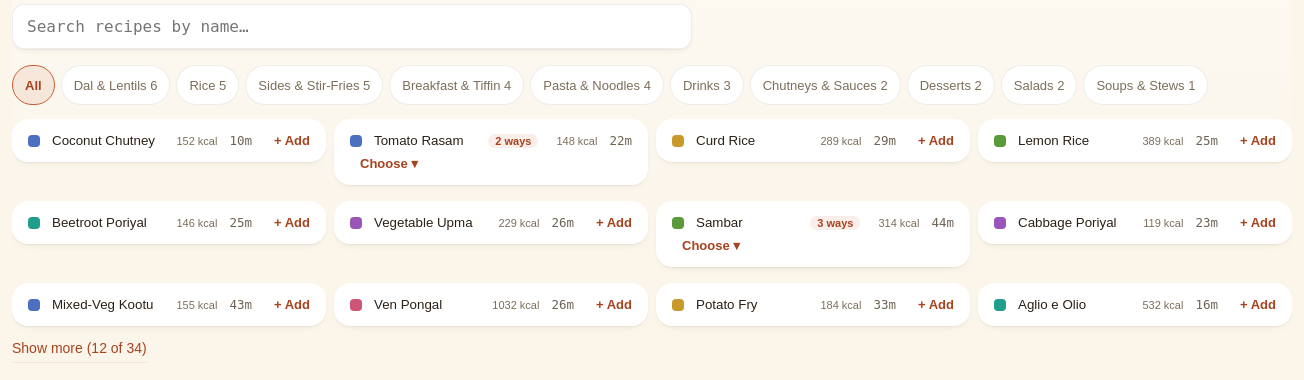
LibraryBrowser (Phase D) › shows an empty state when nothing matches
This screenshot has width=1304, height=380.
In the search field labelled "Search recipes by name…": (352, 26) [12,4,692,49], type "zzzznomatch"
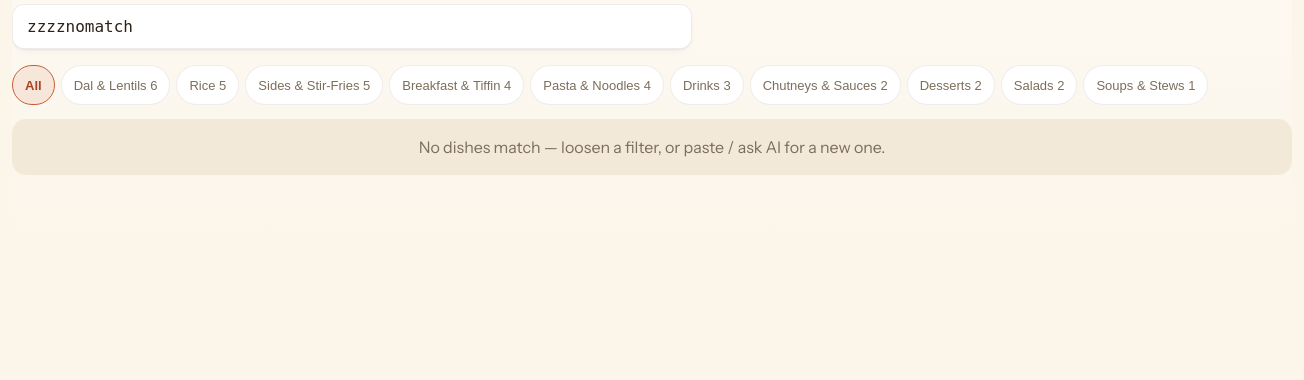
Result: the text "No dishes match" is shown at [419,137,885,157]
